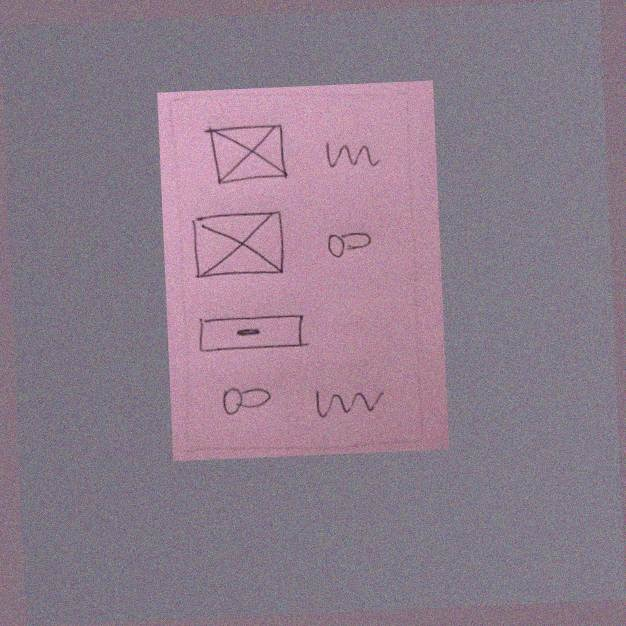button: (195, 308, 312, 359)
image: (187, 208, 289, 286), (199, 117, 294, 192)
switch: (216, 381, 275, 422), (323, 224, 375, 264)
text: (309, 381, 387, 424), (319, 133, 382, 177)
